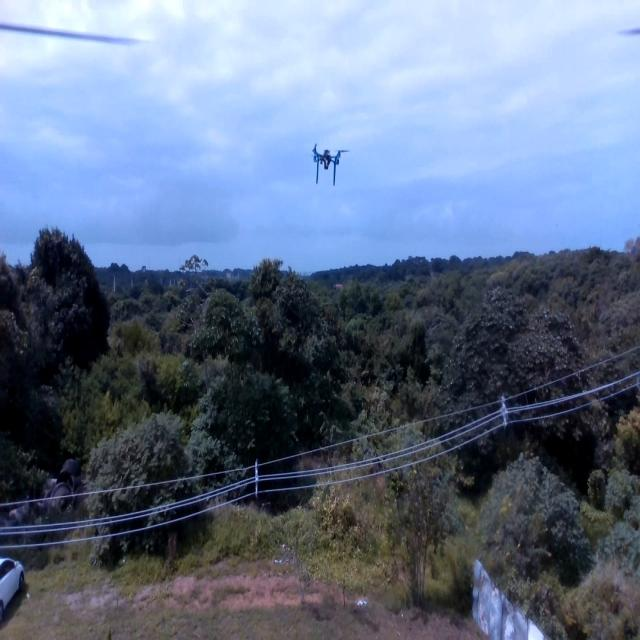-uav-: (307, 135, 351, 195)
